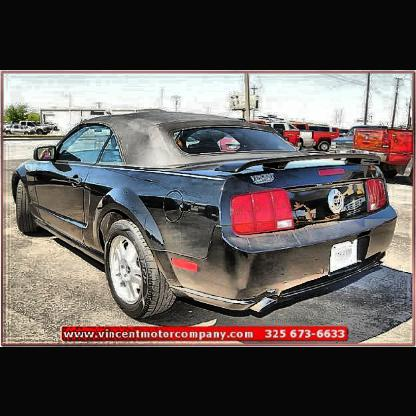Ford Mustang Convertible 2007: (11, 109, 401, 322)
